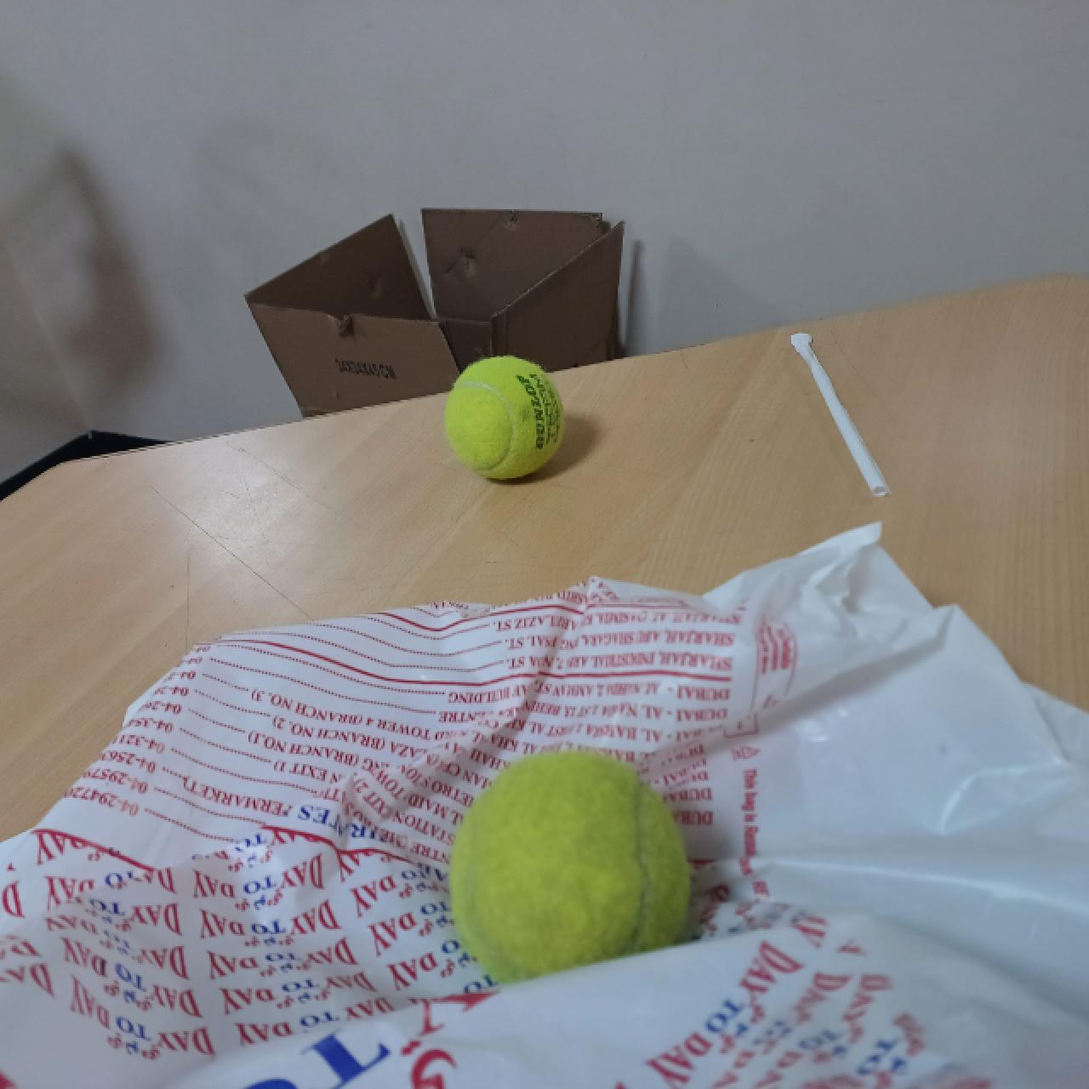tennis-ball: (447, 748, 687, 986), (446, 355, 566, 482)
